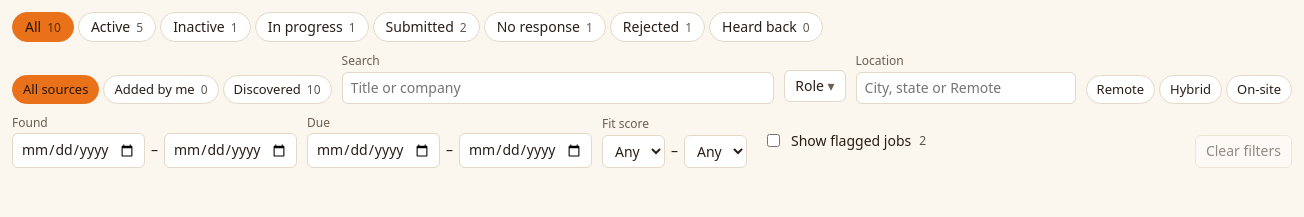
Test case: Filters › date and score ranges write their params
Type "2026-10-01" into the date field named "Found from" at coordinates (78, 151), box [12,133,145,168]
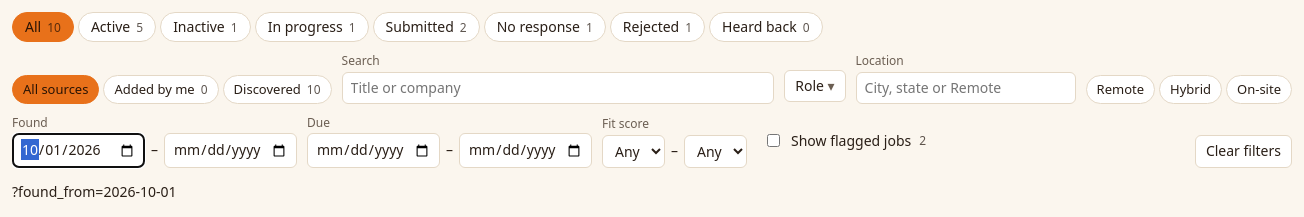
Type "2026-12-31" into the date field named "Due to" at coordinates (526, 151), box [459,133,592,168]
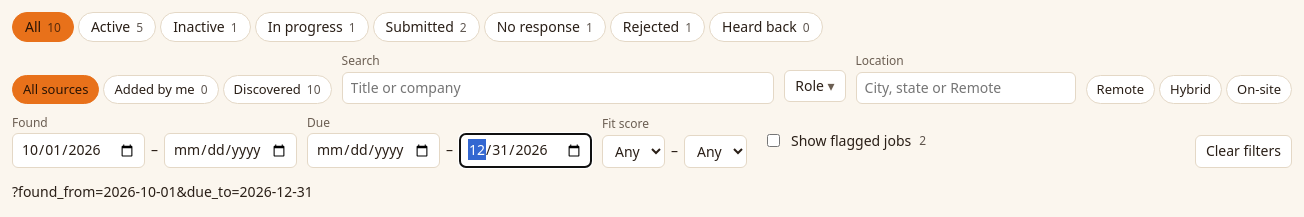
Select "70" in the dropdown named "Fit score min" at coordinates (634, 151), box [602,135,665,168]
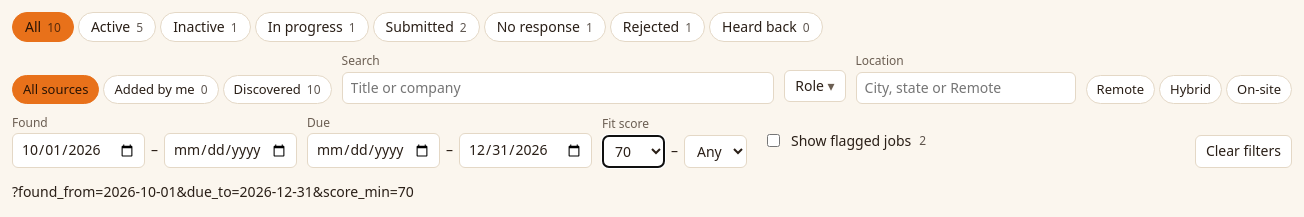
Select "90" in the dropdown named "Fit score max" at coordinates (716, 151), box [684,135,747,168]
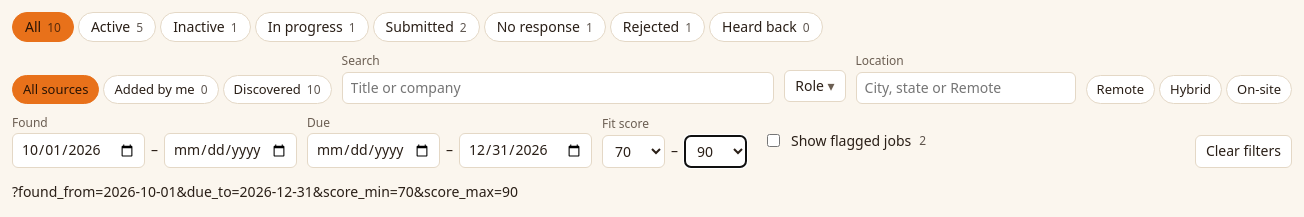
expect the text with test id "search" reads "?found_from=2026-10-01&due_to=2026-12-31&score_min=70&score_max=90": met, box [12,182,518,201]
